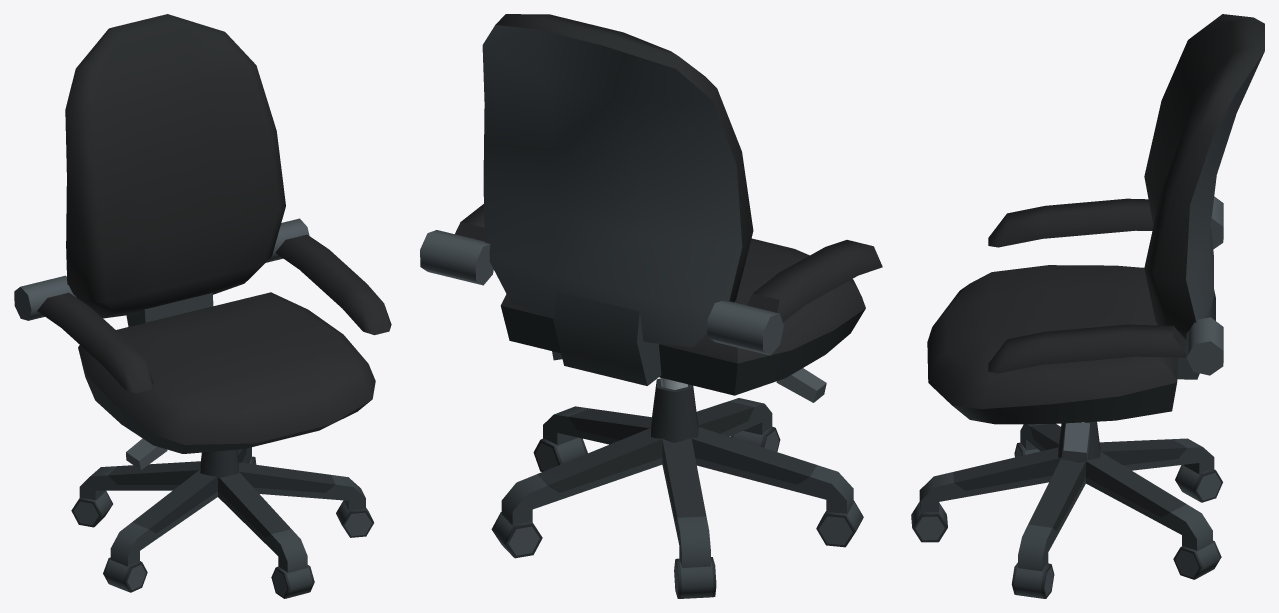
File: Chair_Office_01.obj
3 renders of one model, left to right at view 1: azimuth 30°, elevation 25°; view 2: azimuth 150°, elevation 25°; view 3: azimuth 270°, elevation 25°, orthographic. The views are drawn at different scales.
Parts seen in each view (by area): view 1: Chair_Office_Part_01, Chair_Office_01; view 2: Chair_Office_Part_01, Chair_Office_01; view 3: Chair_Office_Part_01, Chair_Office_01.
Boxes of the visible parts, left/top/right/bottom form: Chair_Office_Part_01: left=14, top=14, right=391, bottom=469; Chair_Office_01: left=71, top=447, right=373, bottom=598; Chair_Office_Part_01: left=420, top=14, right=882, bottom=402; Chair_Office_01: left=491, top=378, right=863, bottom=598; Chair_Office_Part_01: left=927, top=14, right=1264, bottom=462; Chair_Office_01: left=911, top=421, right=1222, bottom=598.
Bounding box in the file's own units: 0.6427 × 1.02 × 0.6504.
1 material, 1 textured.
